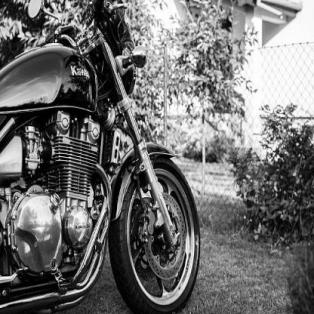Motocicleta: (0, 1, 204, 313)
